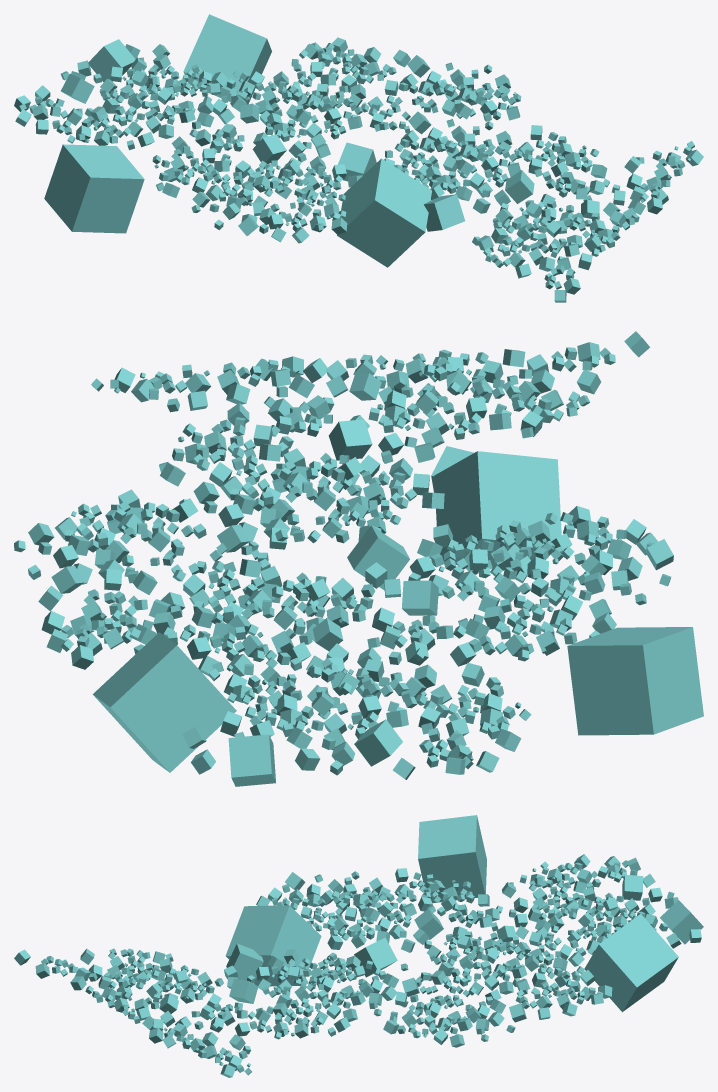
Rendered from Glass.Shards.Wall1.fbx.
3 views of the same model, one above another, from view 1: azimuth 30°, elevation 25°; view 2: azimuth 150°, elevation 25°; view 3: azimuth 270°, elevation 25° (orthographic). The views are drawn at different scales.
Visible parts, largest first — view 1: Cube; view 2: Cube; view 3: Cube.
Part boxes in pixels (x1=…): Cube: x1=14, y1=14, x2=703, y2=302; Cube: x1=14, y1=331, x2=703, y2=786; Cube: x1=14, y1=815, x2=703, y2=1077.
Bounding box in the file's own units: 206 × 35.19 × 255.
